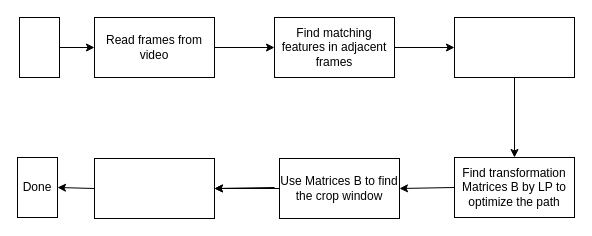
The diagram is 592 pixels wide and 236 high, and some of its shapes have lost their labels. The shapes that lost their labels are listed below. From the top down, each one's centre as x and y in pixels, then its label:
At pixel 39 47: "Start".
At pixel 514 47: "Calculate Forward Homographies".
At pixel 154 188: "Crop the image and warp to rectangle to write back".
